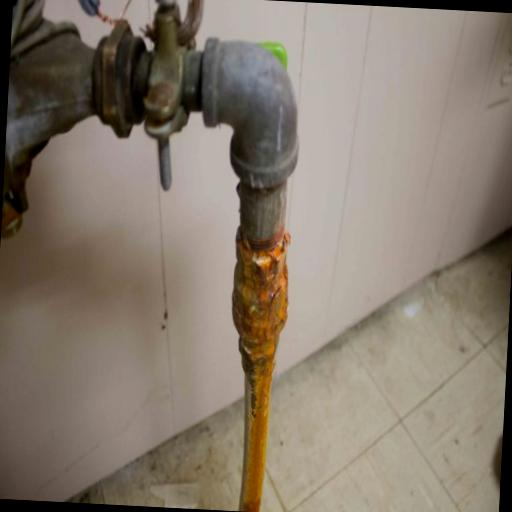segmentation: (232, 226, 282, 510)
